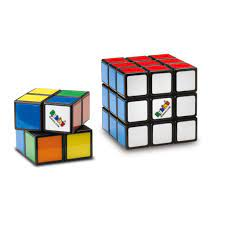cube: (99, 51, 203, 154)
